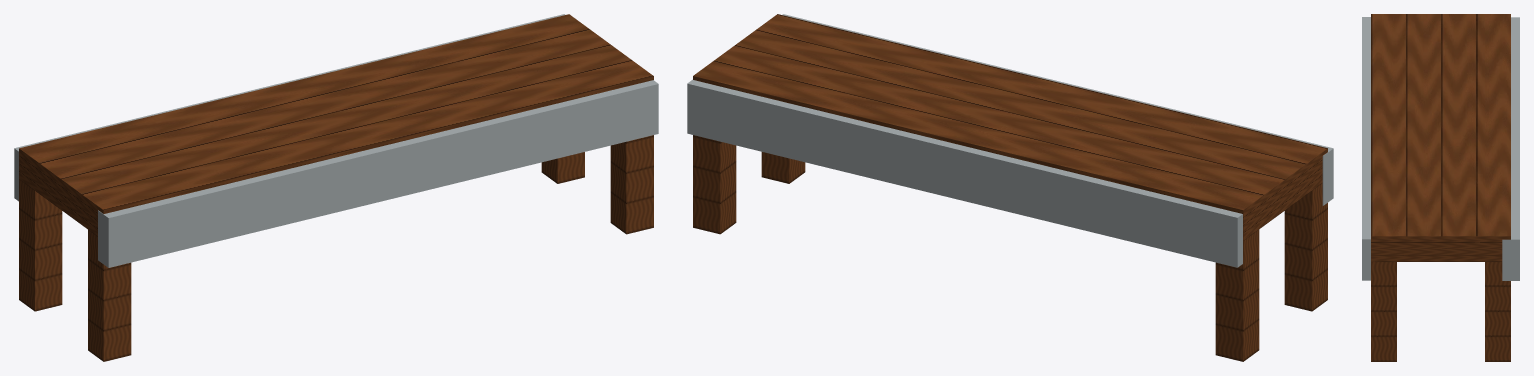
The model's file is bunker-shelter-construction-mess-bench-2e68e691__23350.glb.
3 views of the same model, side by side, from view 1: azimuth 30°, elevation 25°; view 2: azimuth 150°, elevation 25°; view 3: azimuth 270°, elevation 25° (orthographic). The views are drawn at different scales.
Visible parts, largest first — view 1: mess-bench; view 2: mess-bench; view 3: mess-bench.
Part boxes in pixels (x1,y1,x2,y2): mess-bench: (14, 14, 658, 361); mess-bench: (687, 14, 1333, 361); mess-bench: (1362, 14, 1519, 361).
Size of the model in its own units: 1.5 by 0.395 by 0.4499.
Materials: 2 (1 with a texture image).
